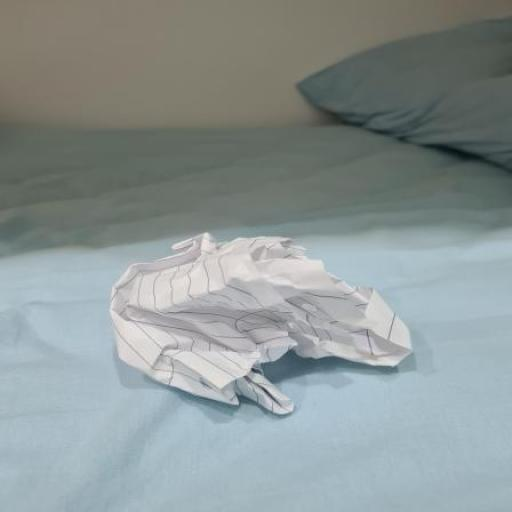paper: (114, 235, 422, 413)
